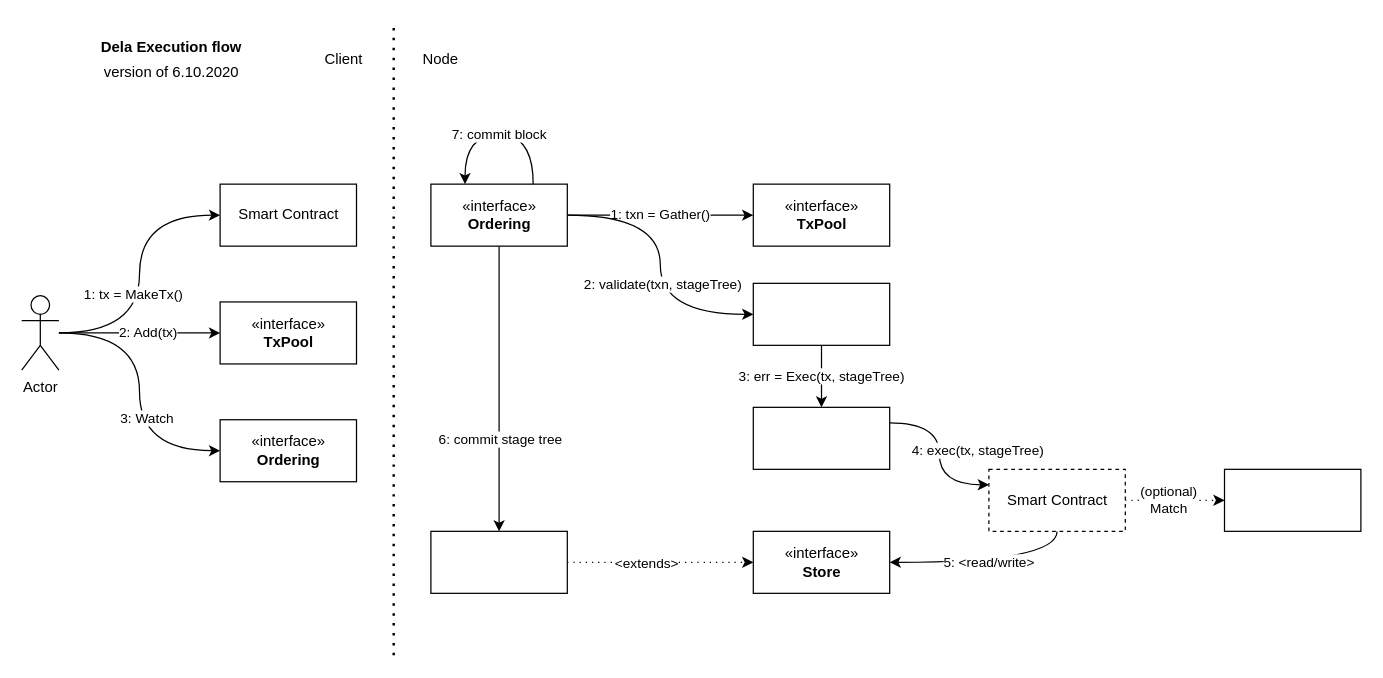
This 1383x678 diagram has some shape labels left out. Each missing label, with the centre of its shape:
Tree: pixel 498 561
«interface» Access: pixel 1292 499
«interface» Execution: pixel 821 437
«interface» Validation: pixel 821 313
